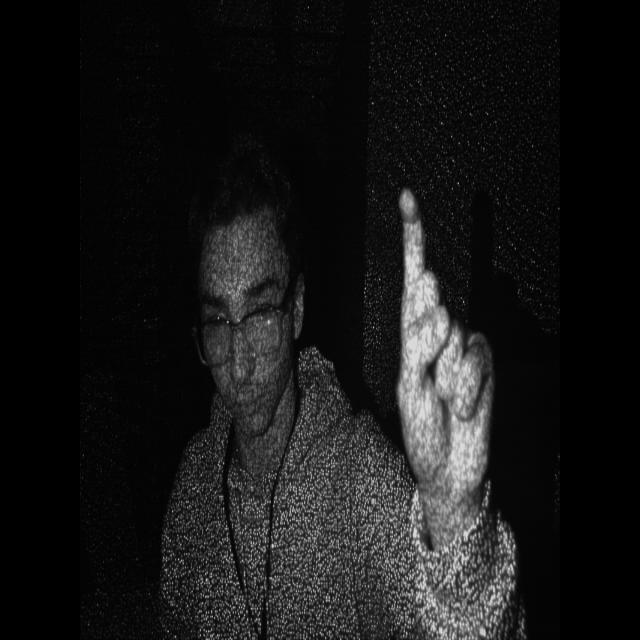X: (387, 163, 513, 546)
